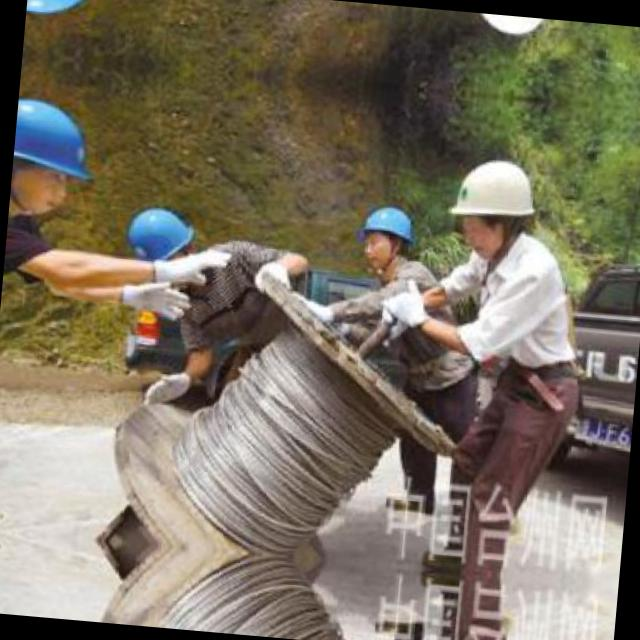helmet: (439, 144, 548, 266), (7, 88, 99, 230), (117, 199, 198, 273), (352, 198, 420, 276), (457, 11, 560, 49), (25, 0, 110, 29)
